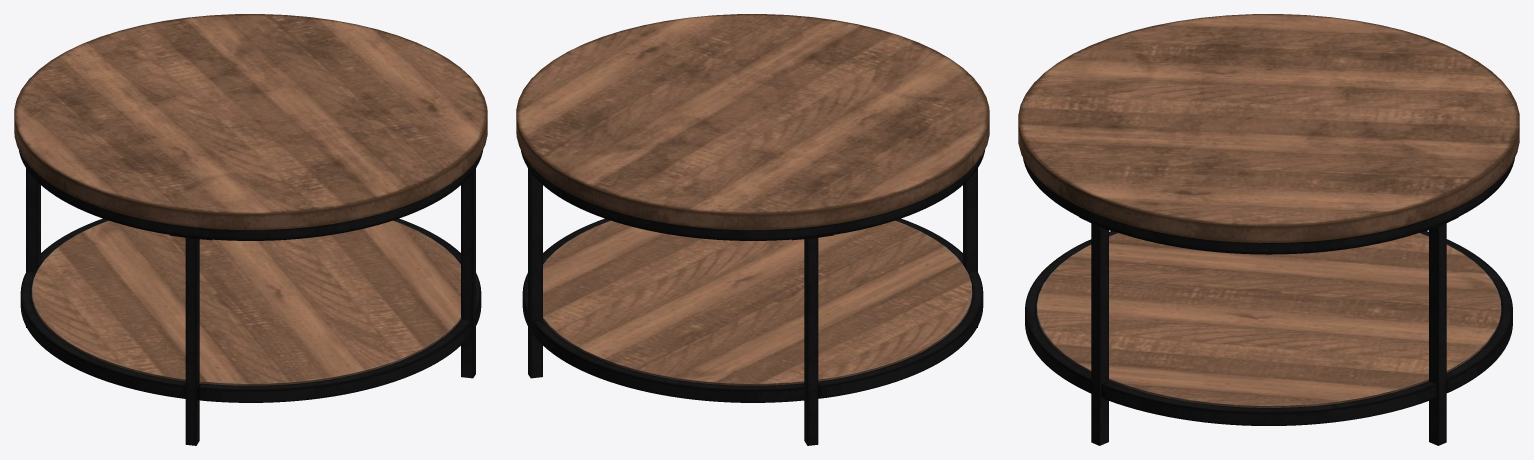
File: abo_B075Z8KXDT.glb
3 renders of one model, left to right at view 1: azimuth 30°, elevation 25°; view 2: azimuth 150°, elevation 25°; view 3: azimuth 270°, elevation 25°, orthographic. The views are drawn at different scales.
Visible parts, largest first — view 1: RootNode; view 2: RootNode; view 3: RootNode.
Part boxes in pixels (x1,y1,x2,y2): RootNode: [14, 14, 487, 445]; RootNode: [516, 14, 989, 445]; RootNode: [1018, 14, 1519, 445].
Size of the model in its own units: 0.8365 by 0.4622 by 0.8365.
Materials: 1 (1 with a texture image).
